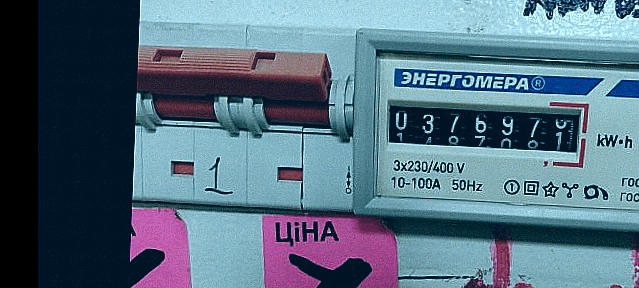0: (393, 107, 409, 130)
1: (553, 129, 563, 151)
3: (421, 111, 435, 133)
6: (473, 110, 489, 133)
7: (447, 109, 462, 133), (527, 113, 542, 136)
9: (500, 113, 515, 135)
screen: (376, 90, 592, 170)
